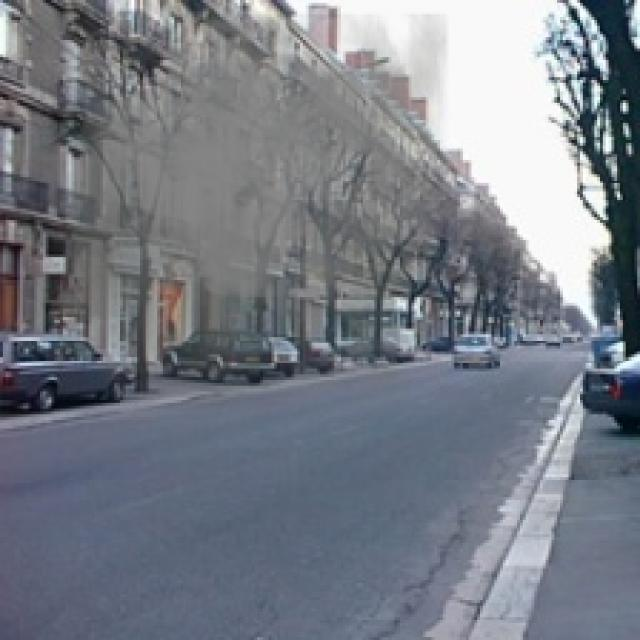Smoke: (51, 0, 448, 406)
